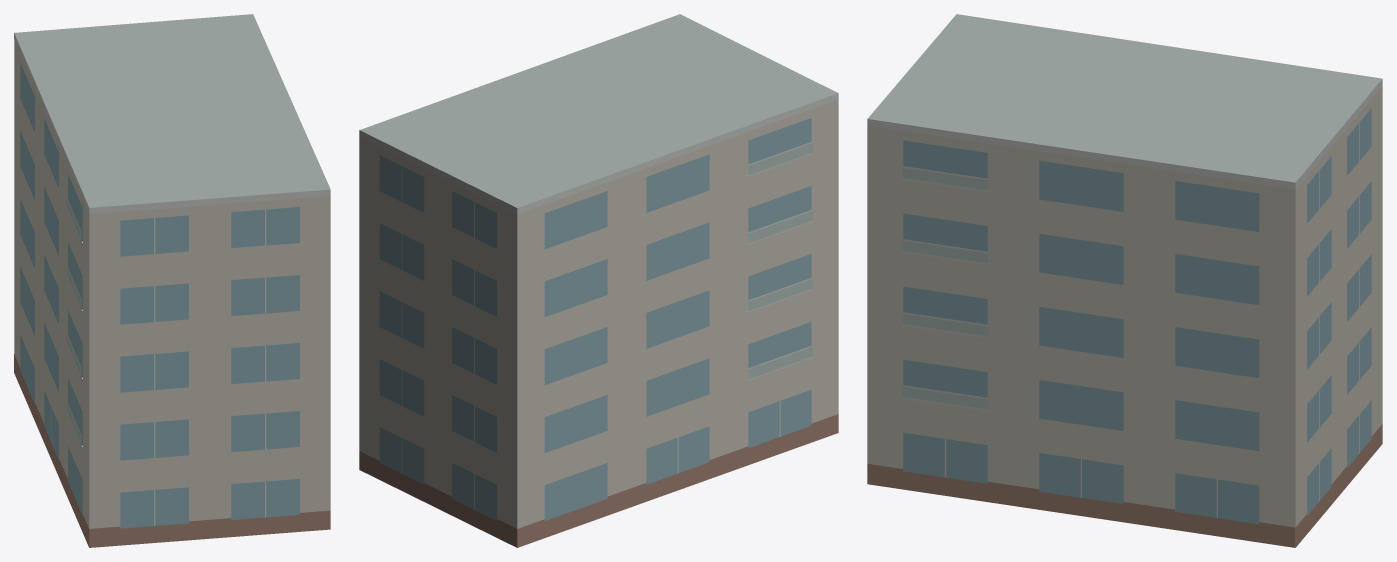
File: survey-upis-32888442.glb
3 views of the same model, side by side, from view 1: azimuth 30°, elevation 25°; view 2: azimuth 150°, elevation 25°; view 3: azimuth 270°, elevation 25° (orthographic). The views are drawn at different scales.
Parts seen in each view (by area): view 1: survey-upis-32888442.tmp; view 2: survey-upis-32888442.tmp; view 3: survey-upis-32888442.tmp.
Boxes of the visible parts, x1,y1,x2,y2 form: survey-upis-32888442.tmp: (14,14,330,547); survey-upis-32888442.tmp: (359,14,838,547); survey-upis-32888442.tmp: (867,14,1382,547).
Size of the model in its own units: 12.98 by 13.1 by 16.75.
